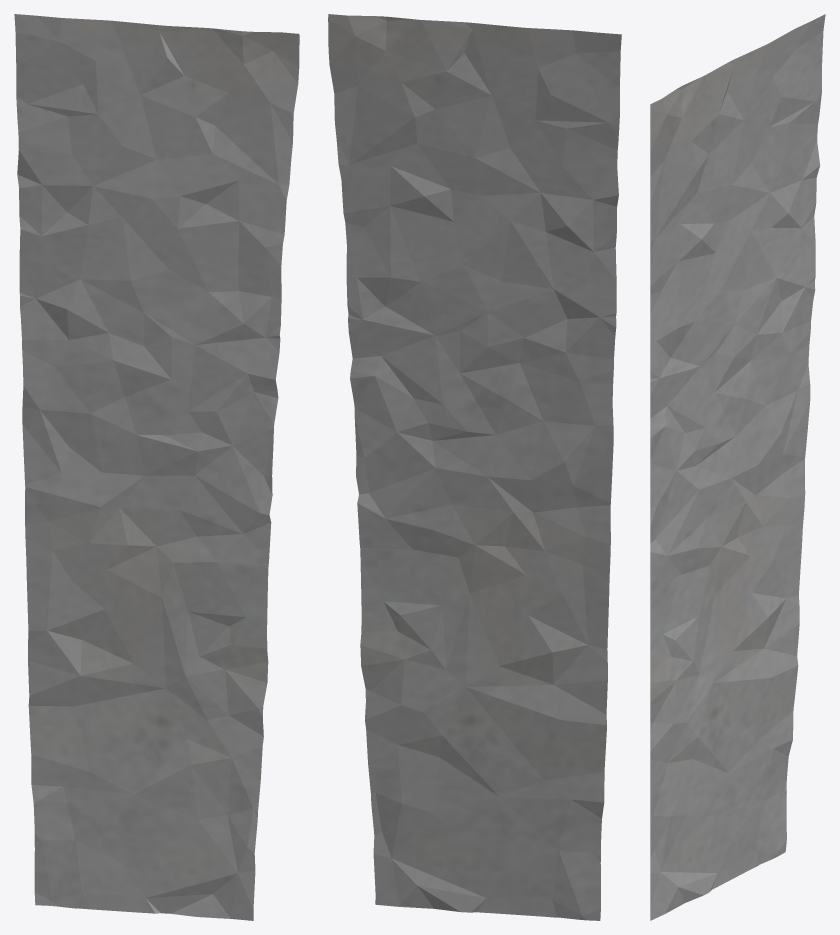
3 views of the same model, side by side, from view 1: azimuth 30°, elevation 25°; view 2: azimuth 210°, elevation 25°; view 3: azimuth 270°, elevation 25° (orthographic). The views are drawn at different scales.
Bounding box in the file's own units: 0.1936 × 0.8373 × 0.1588.
1 material, 1 textured.
